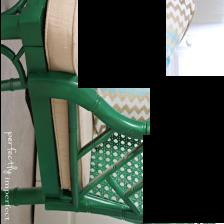green: (0, 0, 217, 224)
